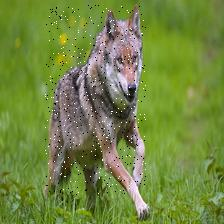WOLF: (45, 5, 146, 195)
